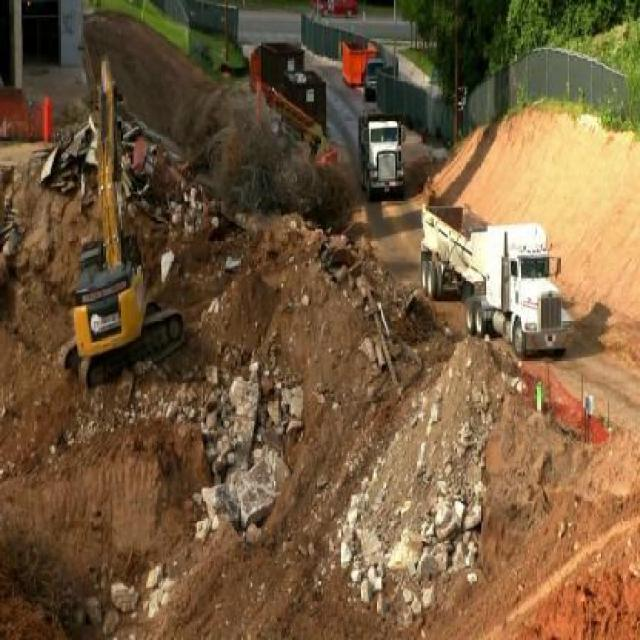dump_truck: (418, 204, 574, 354), (358, 111, 402, 200)
excavator: (54, 53, 186, 390)
